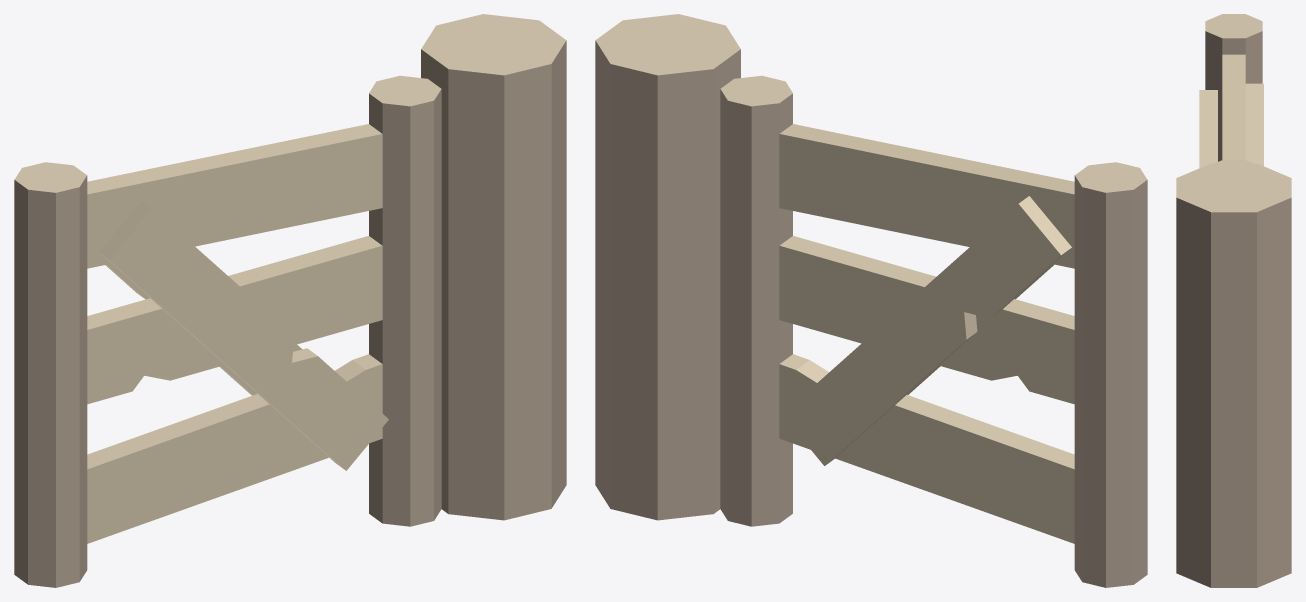
Rendered from Prop_Fence_Gate_2.glb.
3 views of the same model, side by side, from view 1: azimuth 30°, elevation 25°; view 2: azimuth 150°, elevation 25°; view 3: azimuth 270°, elevation 25° (orthographic). The views are drawn at different scales.
Visible parts, largest first — view 1: object2, object8, object5, object1, object3, object6, object7; view 2: object2, object8, object5, object4, object1, object6, object7; view 3: object2, object8, object1, object4, object3.
Part boxes in pixels (left/top/right/bottom): object2: left=421, top=14, right=566, bottom=520; object8: left=14, top=162, right=87, bottom=587; object5: left=369, top=75, right=441, bottom=526; object1: left=87, top=124, right=382, bottom=268; object3: left=99, top=200, right=388, bottom=470; object6: left=87, top=354, right=382, bottom=543; object7: left=87, top=236, right=382, bottom=404; object2: left=595, top=14, right=740, bottom=520; object8: left=1074, top=162, right=1147, bottom=587; object5: left=720, top=75, right=792, bottom=526; object4: left=782, top=196, right=1071, bottom=465; object1: left=779, top=124, right=1074, bottom=268; object6: left=779, top=354, right=1074, bottom=543; object7: left=779, top=236, right=1074, bottom=404; object2: left=1176, top=163, right=1291, bottom=587; object8: left=1205, top=14, right=1262, bottom=161; object1: left=1222, top=54, right=1245, bottom=159; object4: left=1245, top=83, right=1263, bottom=166; object3: left=1199, top=90, right=1217, bottom=168.
Size of the model in its own units: 1.12 by 0.9 by 0.25.
